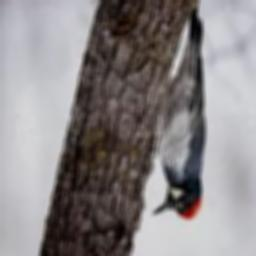Woodpecker: (151, 5, 205, 220)
